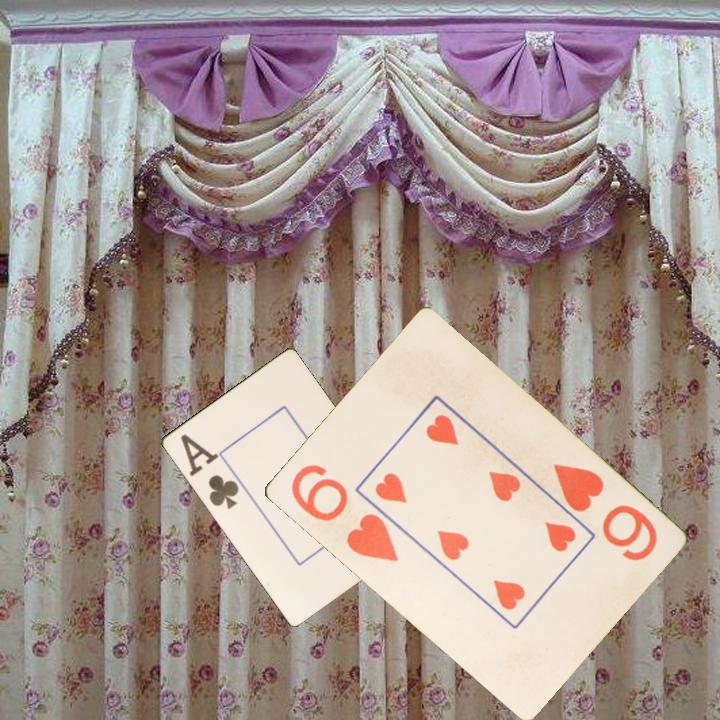6h: (286, 460, 401, 565), (548, 460, 660, 565)
Ac: (176, 430, 242, 512)
